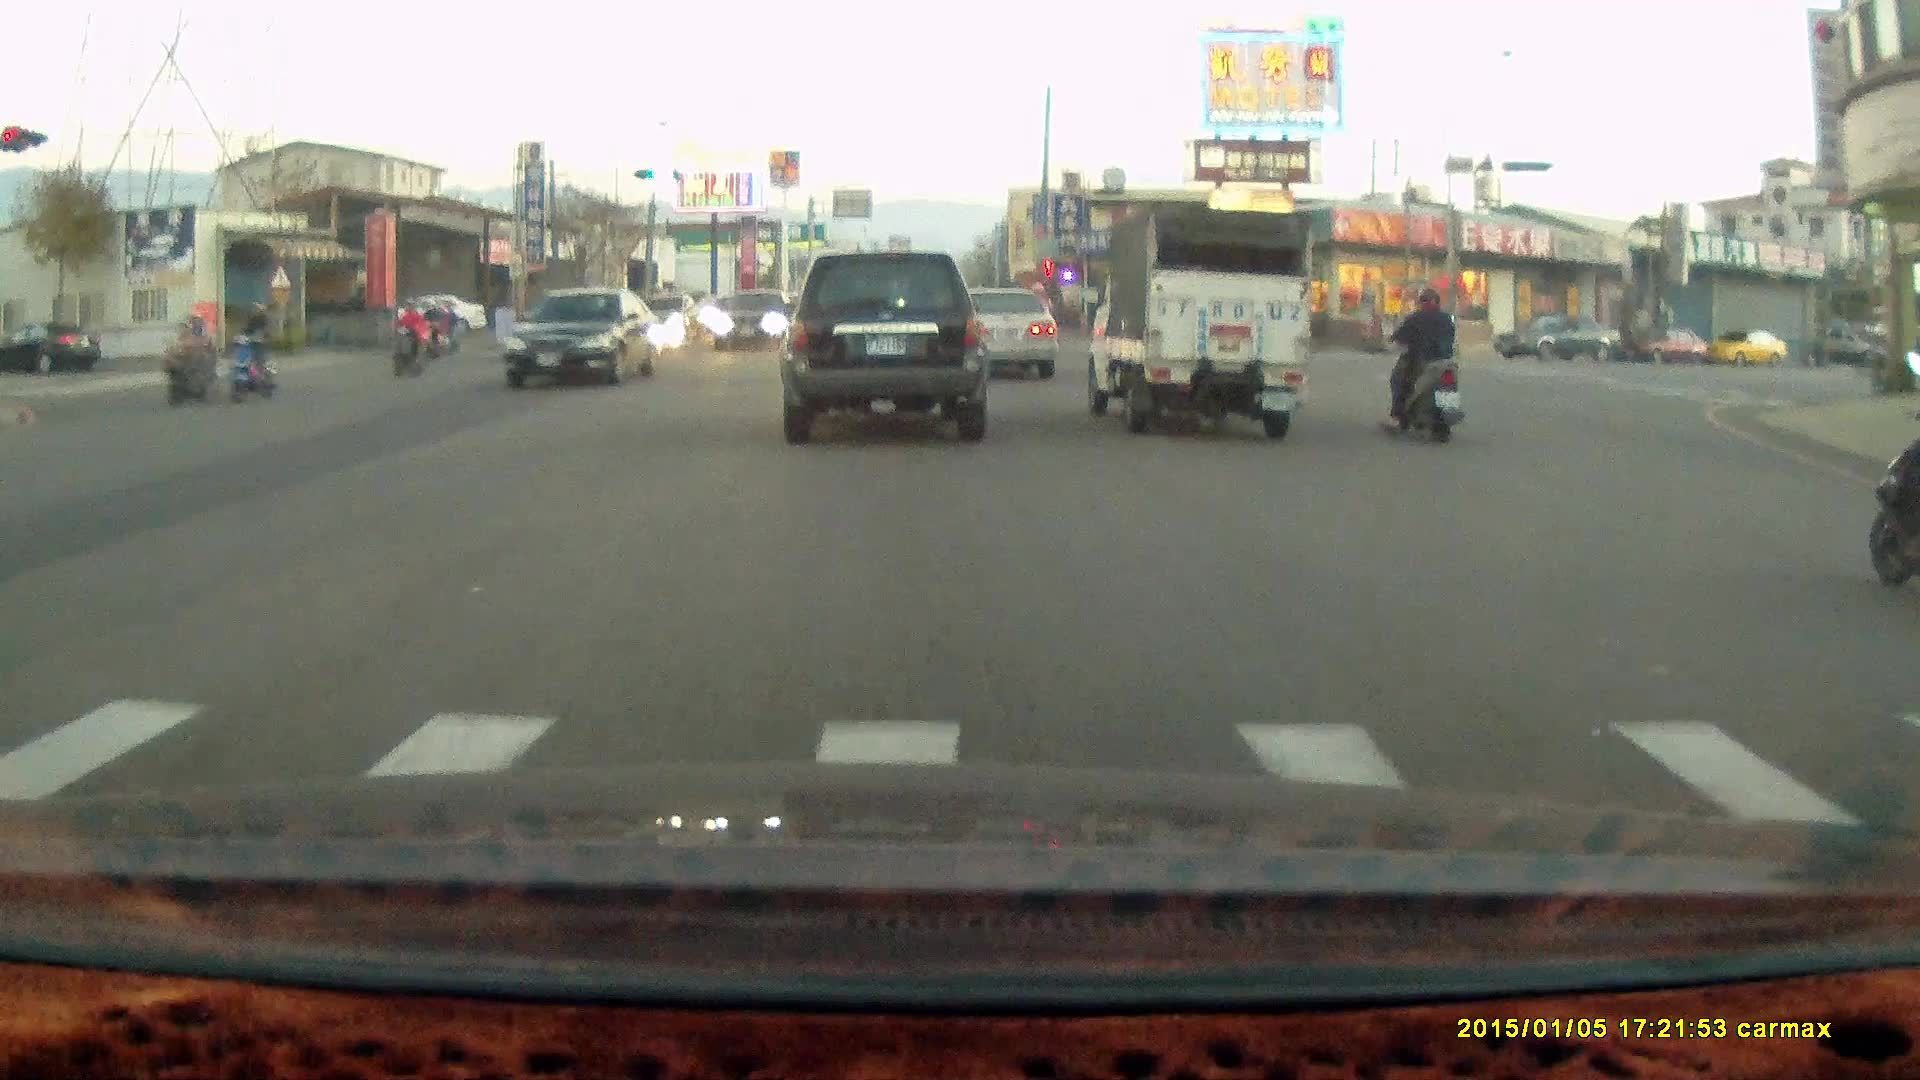rider: (1379, 282, 1465, 444), (1865, 396, 1920, 596), (157, 310, 222, 411), (222, 302, 279, 402), (387, 296, 432, 379)
vehicle: (1077, 205, 1312, 439), (776, 248, 986, 446), (506, 288, 669, 391), (939, 284, 1058, 381), (951, 286, 1063, 382), (1491, 312, 1627, 364), (710, 289, 800, 356), (397, 299, 488, 344), (1706, 326, 1791, 367), (1629, 329, 1710, 368)
